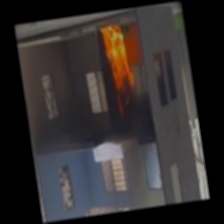fire: (98, 22, 138, 102)
